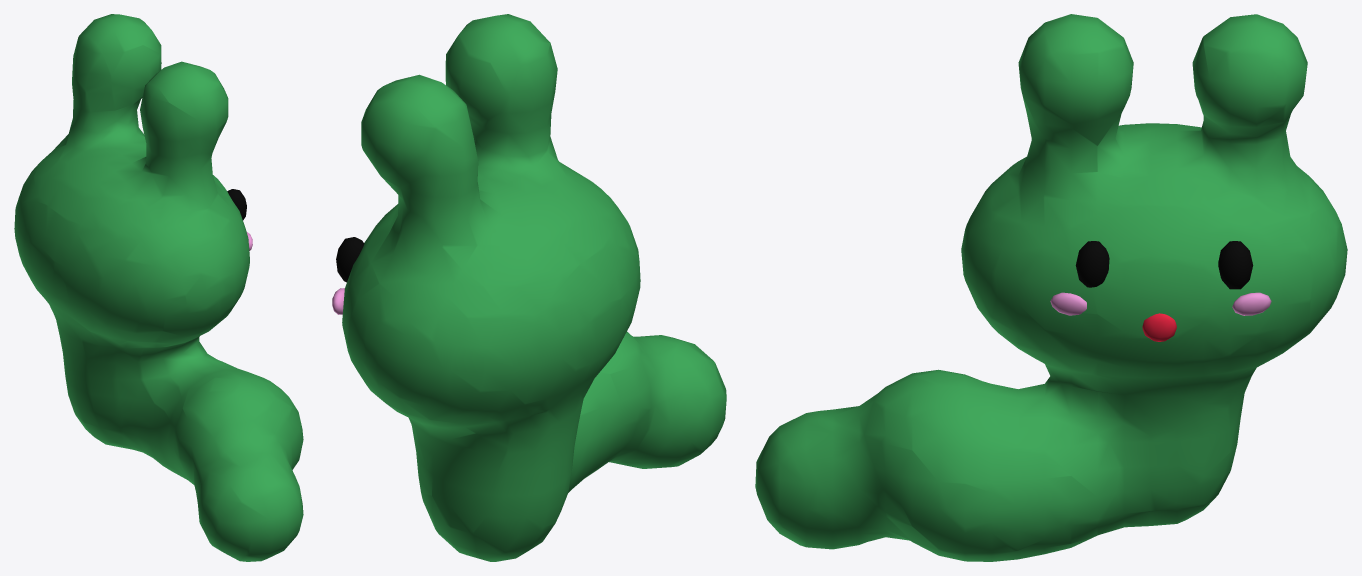
The model's file is Catapillar Enemy.fbx.
The picture shows the model from 3 angles, left to right: view 1: azimuth 30°, elevation 25°; view 2: azimuth 150°, elevation 25°; view 3: azimuth 270°, elevation 25°; orthographic projection. The views are drawn at different scales.
Visible parts, largest first — view 1: Catapillar; view 2: Catapillar; view 3: Catapillar.
Part boxes in pixels (x1,y1,x2,y2): Catapillar: (14, 14, 303, 561); Catapillar: (332, 14, 726, 561); Catapillar: (755, 14, 1347, 561).
Size of the model in its own units: 427 by 903 by 894.
